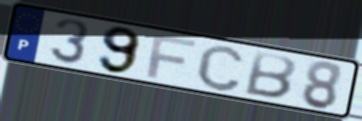3: (48, 17, 90, 66)
8: (300, 59, 344, 111)
9: (96, 25, 145, 76)
B: (241, 49, 299, 101)
C: (194, 43, 247, 93)
F: (144, 32, 198, 80)
